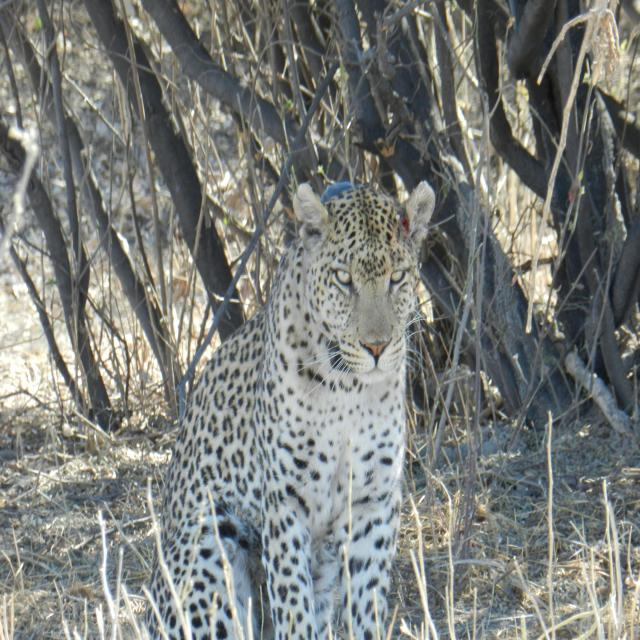Leopard: (99, 160, 444, 640)
